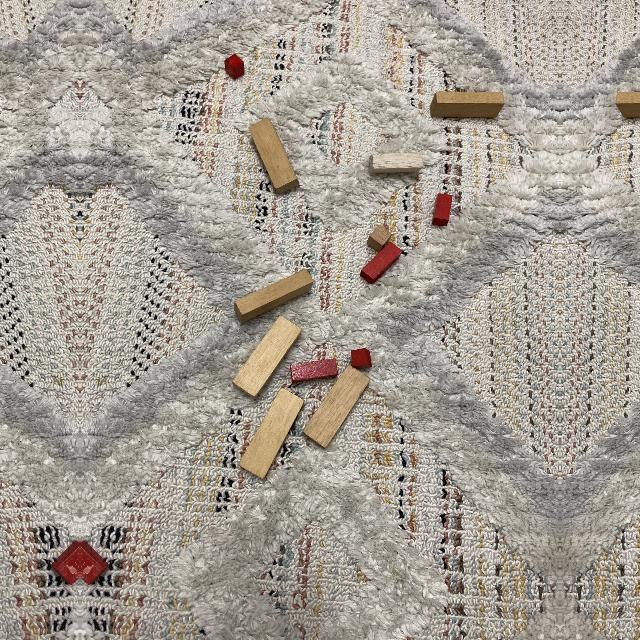block: (369, 153, 423, 173)
cube: (367, 225, 392, 252)
jenga: (239, 388, 305, 480), (232, 316, 302, 399), (302, 365, 370, 449), (234, 269, 313, 324), (248, 117, 299, 194), (430, 92, 504, 118), (616, 92, 640, 118)
red block: (360, 242, 403, 284), (80, 540, 109, 585), (51, 540, 80, 585), (290, 358, 339, 383), (432, 193, 453, 226)
red cube: (224, 54, 245, 79), (351, 348, 372, 372)
